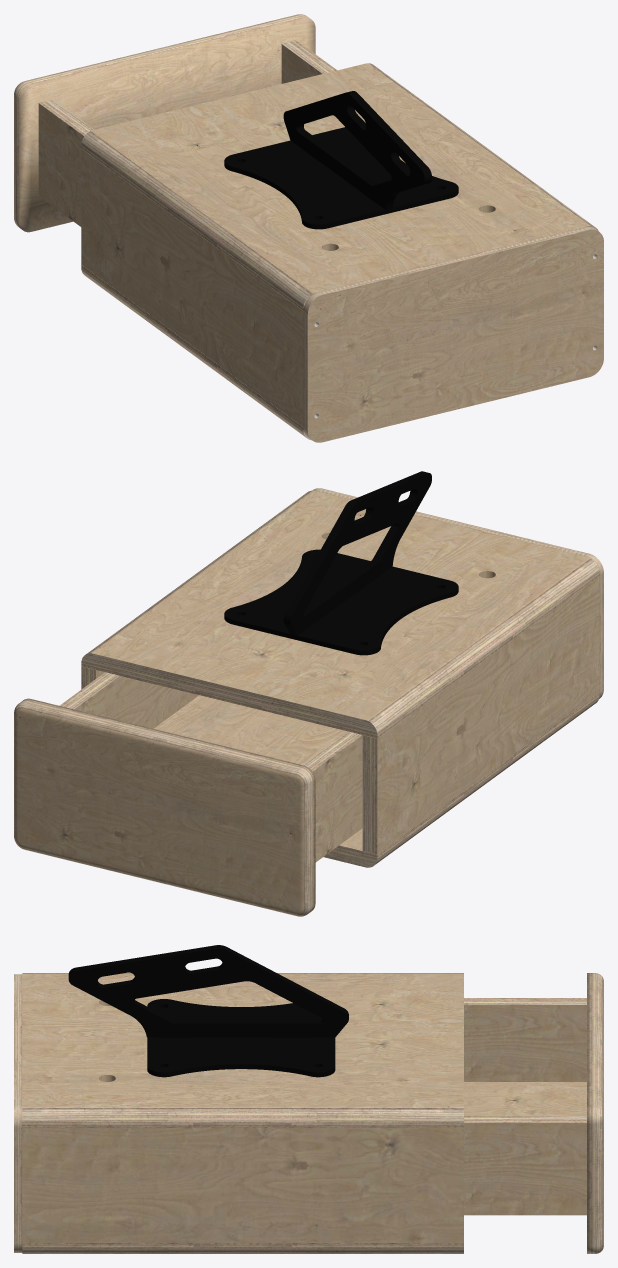
Rendered from plywoodbox-model-a4.glb.
3 renders of one model, top to bottom at view 1: azimuth 30°, elevation 25°; view 2: azimuth 150°, elevation 25°; view 3: azimuth 270°, elevation 25°, orthographic.
Parts seen in each view (by area): view 1: Ð_Ð_ÐµÐ_ÐµÐ_Ñ_Ð_ÐµÑ_ÐºÐ_1_098, Ð_Ð_ÐµÐ_ÐµÐ_Ñ_Ð_ÐµÑ_ÐºÐ_1_097, Ð_Ð_ÐµÐ_ÐµÐ_Ñ_Ð_ÐµÑ_ÐºÐ_1_099, Ð_Ð_ÐµÐ_ÐµÐ_Ñ_Ð_ÐµÑ_ÐºÐ_1_102, Ð_Ð_ÐµÐ_ÐµÐ_Ñ_Ð_ÐµÑ_ÐºÐ_1_100, Ð_Ð_ÐµÐ_ÐµÐ_Ñ_Ð_ÐµÑ_ÐºÐ_1_101, Ð_Ð_ÐµÐ_ÐµÐ_Ñ_Ð_ÐµÑ_ÐºÐ_1_096; view 2: Ð_Ð_ÐµÐ_ÐµÐ_Ñ_Ð_ÐµÑ_ÐºÐ_1_098, Ð_Ð_ÐµÐ_ÐµÐ_Ñ_Ð_ÐµÑ_ÐºÐ_1_102, Ð_Ð_ÐµÐ_ÐµÐ_Ñ_Ð_ÐµÑ_ÐºÐ_1_099, Ð_Ð_ÐµÐ_ÐµÐ_Ñ_Ð_ÐµÑ_ÐºÐ_1_100, Ð_Ð_ÐµÐ_ÐµÐ_Ñ_Ð_ÐµÑ_ÐºÐ_1_101, Ð_Ð_ÐµÐ_ÐµÐ_Ñ_Ð_ÐµÑ_ÐºÐ_1_096, Ð_Ð_ÐµÐ_ÐµÐ_Ñ_Ð_ÐµÑ_ÐºÐ_1_097; view 3: Ð_Ð_ÐµÐ_ÐµÐ_Ñ_Ð_ÐµÑ_ÐºÐ_1_103, Ð_Ð_ÐµÐ_ÐµÐ_Ñ_Ð_ÐµÑ_ÐºÐ_1_098, Ð_Ð_ÐµÐ_ÐµÐ_Ñ_Ð_ÐµÑ_ÐºÐ_1_101, Ð_Ð_ÐµÐ_ÐµÐ_Ñ_Ð_ÐµÑ_ÐºÐ_1_100, Ð_Ð_ÐµÐ_ÐµÐ_Ñ_Ð_ÐµÑ_ÐºÐ_1_096, Ð_Ð_ÐµÐ_ÐµÐ_Ñ_Ð_ÐµÑ_ÐºÐ_1_102, Ð_Ð_ÐµÐ_ÐµÐ_Ñ_Ð_ÐµÑ_ÐºÐ_1_097.
Part boxes in pixels (x1,y1,x2,y2): Ð_Ð_ÐµÐ_ÐµÐ_Ñ_Ð_ÐµÑ_ÐºÐ_1_098: [81, 63, 598, 310]; Ð_Ð_ÐµÐ_ÐµÐ_Ñ_Ð_ÐµÑ_ÐºÐ_1_097: [303, 226, 603, 442]; Ð_Ð_ÐµÐ_ÐµÐ_Ñ_Ð_ÐµÑ_ÐºÐ_1_099: [81, 148, 303, 426]; Ð_Ð_ÐµÐ_ÐµÐ_Ñ_Ð_ÐµÑ_ÐºÐ_1_102: [14, 14, 315, 232]; Ð_Ð_ÐµÐ_ÐµÐ_Ñ_Ð_ÐµÑ_ÐºÐ_1_100: [224, 91, 458, 229]; Ð_Ð_ÐµÐ_ÐµÐ_Ñ_Ð_ÐµÑ_ÐºÐ_1_101: [38, 40, 336, 226]; Ð_Ð_ÐµÐ_ÐµÐ_Ñ_Ð_ÐµÑ_ÐºÐ_1_096: [81, 265, 311, 440]; Ð_Ð_ÐµÐ_ÐµÐ_Ñ_Ð_ÐµÑ_ÐºÐ_1_098: [81, 490, 599, 738]; Ð_Ð_ÐµÐ_ÐµÐ_Ñ_Ð_ÐµÑ_ÐºÐ_1_102: [14, 698, 315, 916]; Ð_Ð_ÐµÐ_ÐµÐ_Ñ_Ð_ÐµÑ_ÐºÐ_1_099: [362, 576, 599, 854]; Ð_Ð_ÐµÐ_ÐµÐ_Ñ_Ð_ÐµÑ_ÐºÐ_1_100: [224, 471, 458, 655]; Ð_Ð_ÐµÐ_ÐµÐ_Ñ_Ð_ÐµÑ_ÐºÐ_1_101: [59, 672, 362, 862]; Ð_Ð_ÐµÐ_ÐµÐ_Ñ_Ð_ÐµÑ_ÐºÐ_1_096: [324, 692, 599, 867]; Ð_Ð_ÐµÐ_ÐµÐ_Ñ_Ð_ÐµÑ_ÐºÐ_1_097: [312, 488, 603, 698]; Ð_Ð_ÐµÐ_ÐµÐ_Ñ_Ð_ÐµÑ_ÐºÐ_1_103: [22, 1127, 463, 1242]; Ð_Ð_ÐµÐ_ÐµÐ_Ñ_Ð_ÐµÑ_ÐºÐ_1_098: [22, 973, 463, 1127]; Ð_Ð_ÐµÐ_ÐµÐ_Ñ_Ð_ÐµÑ_ÐºÐ_1_101: [464, 998, 586, 1215]; Ð_Ð_ÐµÐ_ÐµÐ_Ñ_Ð_ÐµÑ_ÐºÐ_1_100: [68, 945, 348, 1077]; Ð_Ð_ÐµÐ_ÐµÐ_Ñ_Ð_ÐµÑ_ÐºÐ_1_096: [22, 1243, 463, 1253]; Ð_Ð_ÐµÐ_ÐµÐ_Ñ_Ð_ÐµÑ_ÐºÐ_1_102: [587, 973, 603, 1253]; Ð_Ð_ÐµÐ_ÐµÐ_Ñ_Ð_ÐµÑ_ÐºÐ_1_097: [14, 974, 22, 1252].
Size of the model in its own units: 3.36 by 2.62 by 5.83.
Materials: 3 (2 with a texture image).
